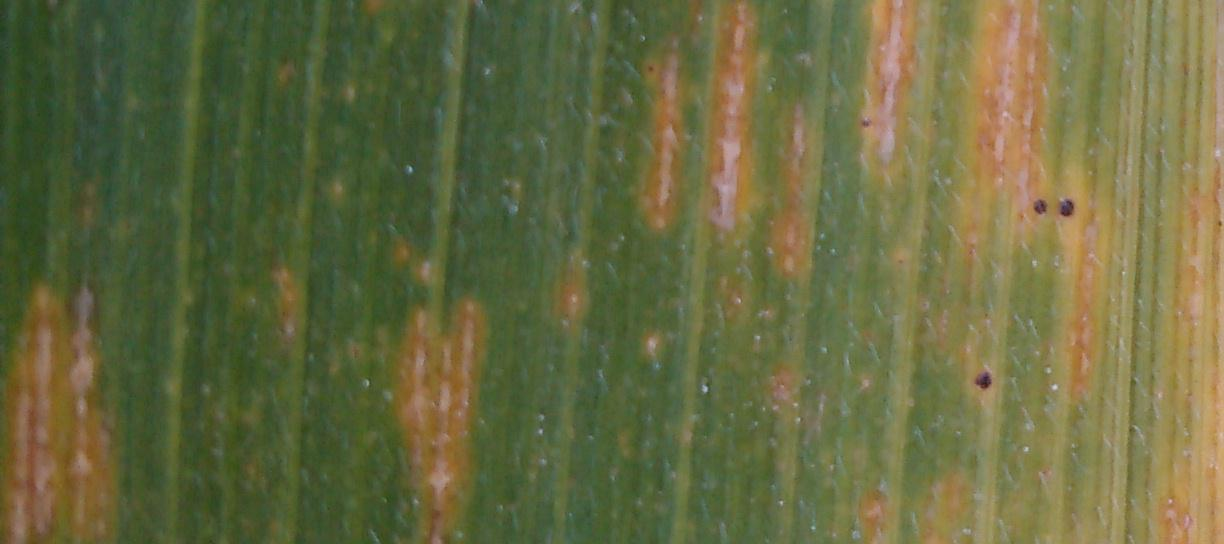tarspot: (973, 368, 993, 395), (1057, 196, 1077, 223), (1029, 195, 1051, 219), (857, 115, 872, 131)
